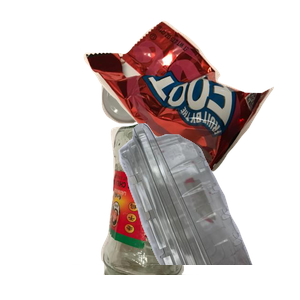glass: (98, 120, 286, 300)
metal: (99, 68, 244, 184)
plastic: (71, 120, 300, 300)
trash: (81, 18, 300, 182)
